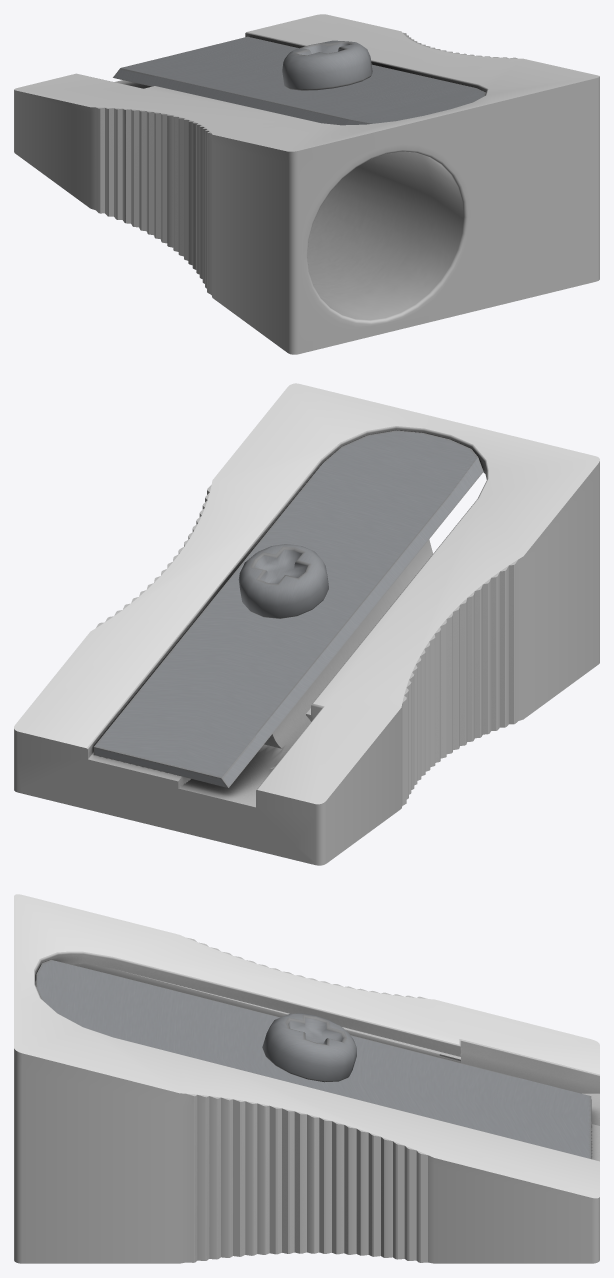
The model's file is sharpener.glb.
3 renders of one model, top to bottom at view 1: azimuth 30°, elevation 25°; view 2: azimuth 150°, elevation 25°; view 3: azimuth 270°, elevation 25°, orthographic. The views are drawn at different scales.
Parts seen in each view (by area): view 1: Cube, Cube.005; view 2: Cube, Cube.005; view 3: Cube, Cube.005.
Boxes of the visible parts, box(x1,y1,x2,y2) form: Cube: box(14, 14, 599, 354); Cube.005: box(113, 36, 485, 125); Cube: box(14, 383, 599, 865); Cube.005: box(93, 430, 483, 787); Cube: box(14, 894, 599, 1263); Cube.005: box(36, 960, 591, 1158).
Size of the model in its own units: 1.6 by 1 by 2.5.
Materials: 3 (2 with a texture image).
